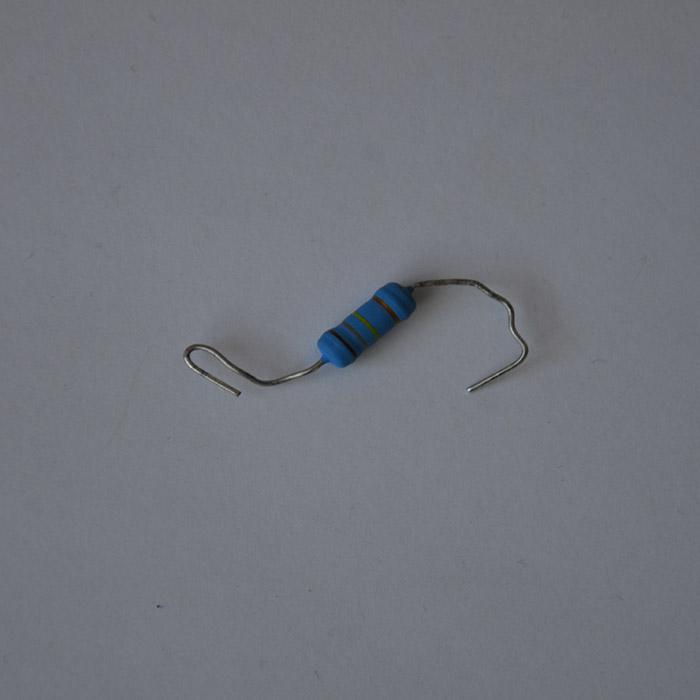resistor: (316, 281, 418, 367)
